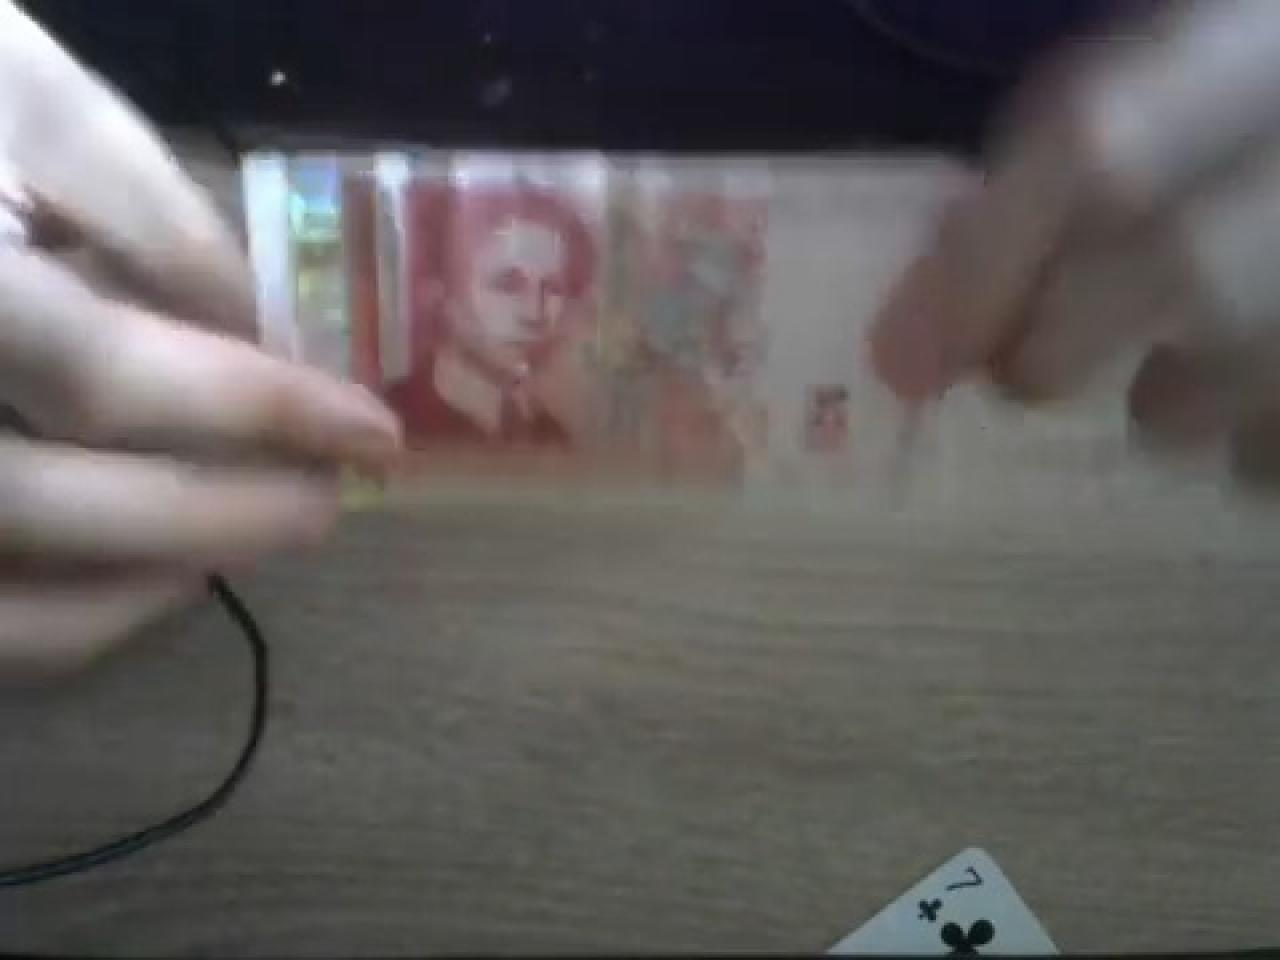5leva: (421, 192, 621, 461)
